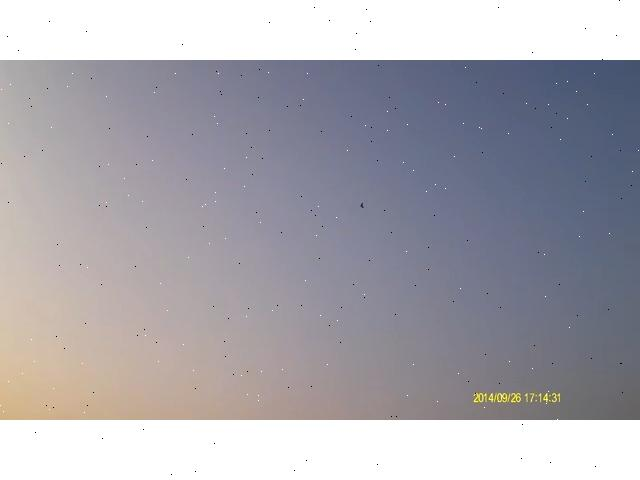Anti-Drone: (352, 197, 372, 213)
